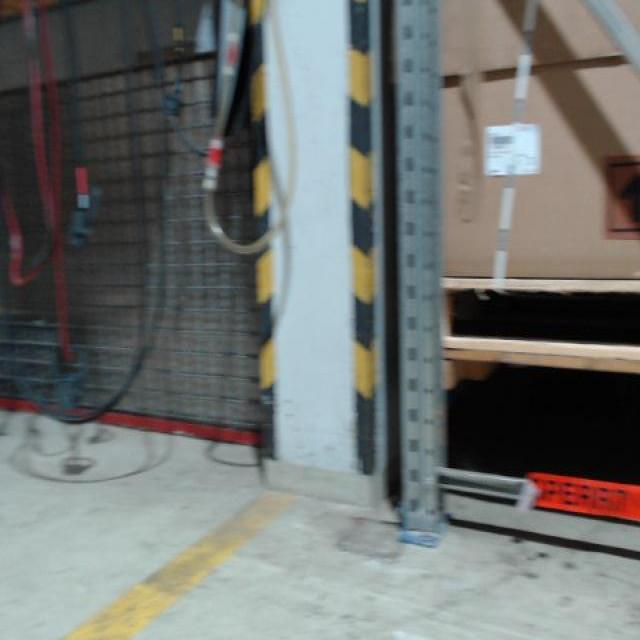pallet: (439, 274, 640, 362)
